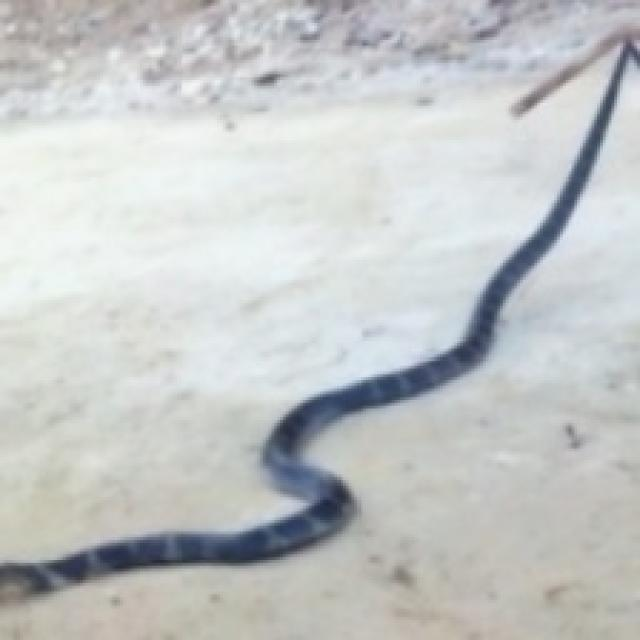king cobra: (0, 66, 637, 637), (0, 54, 611, 557)
